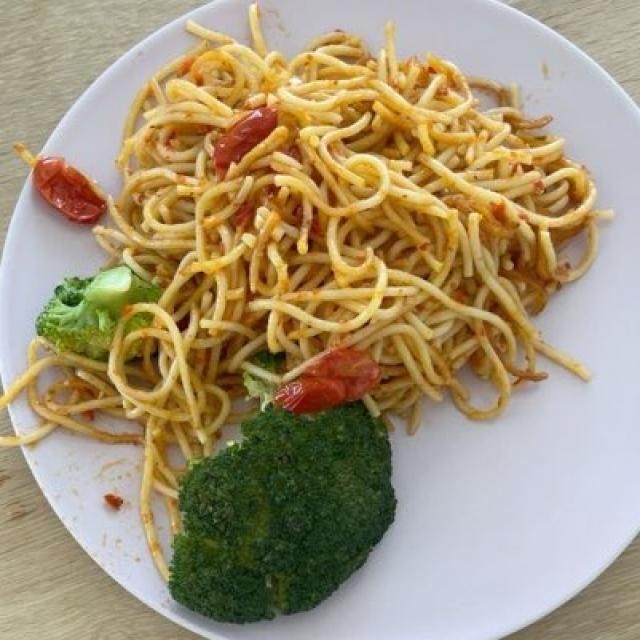broccoli: (30, 248, 396, 623)
pasta: (23, 44, 601, 521)
tomato-sauce: (38, 102, 374, 402)
